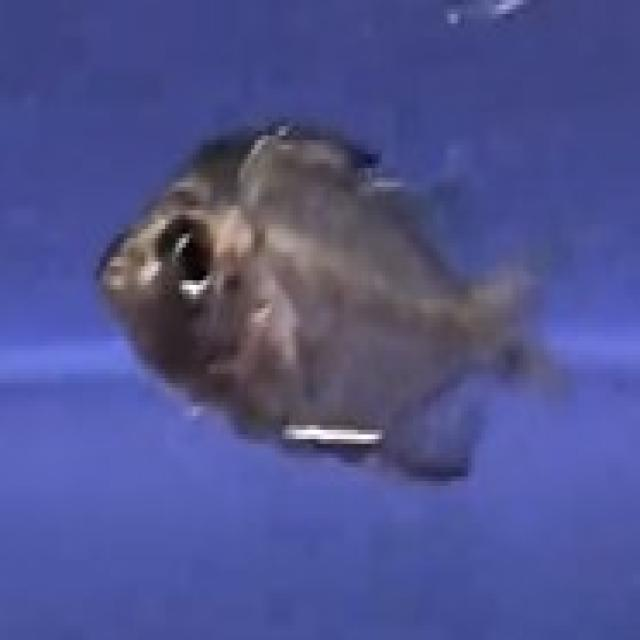Glass-Perchlet: (31, 50, 616, 561)
